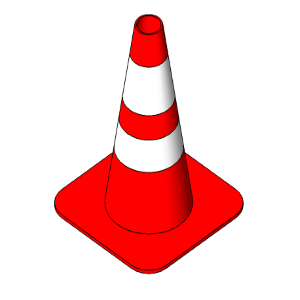traffic cone: (54, 14, 244, 274)
